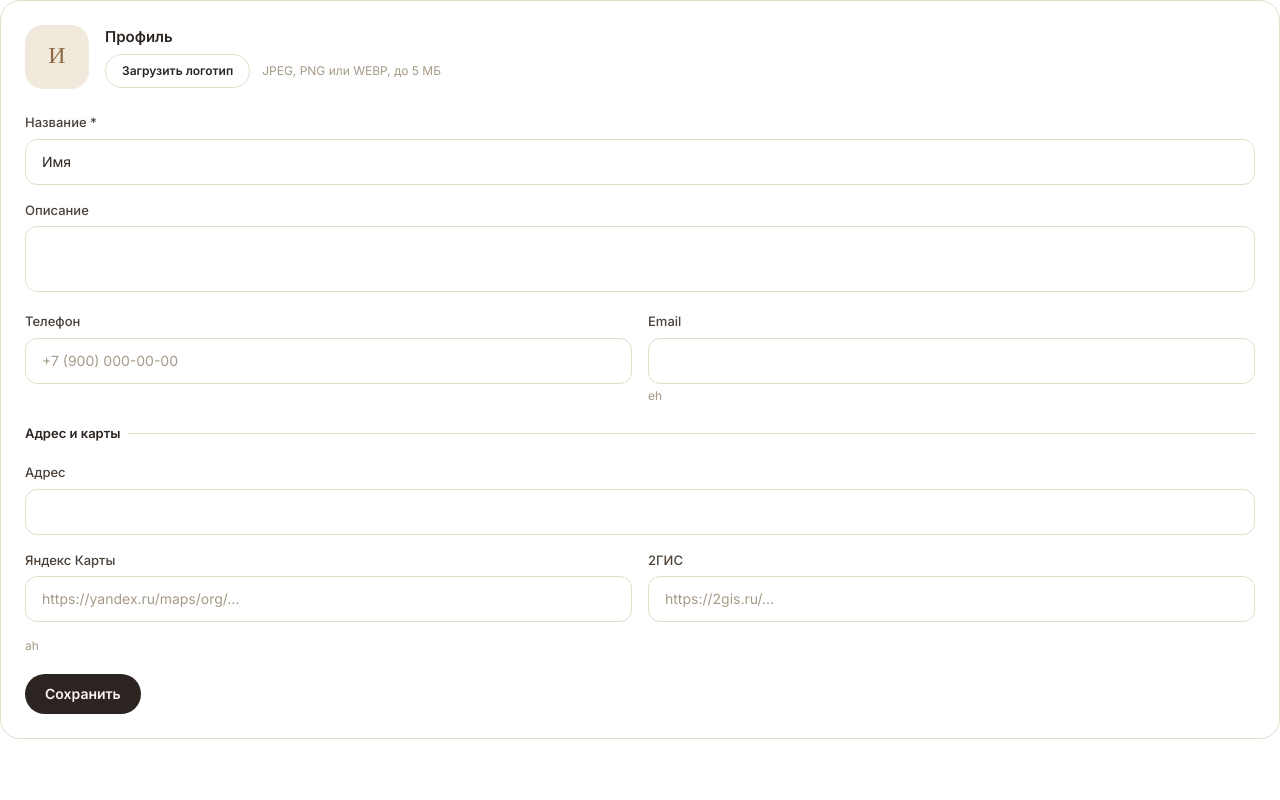
Test: CompanyProfileCard — error routing (ARCHITECTURE_CYCLE32.md §32.4.6) › 409 without timeZoneLock goes under the form
This screenshot has width=1280, height=800.
Click the button "Сохранить" at (83,694), box [25,674,141,714]
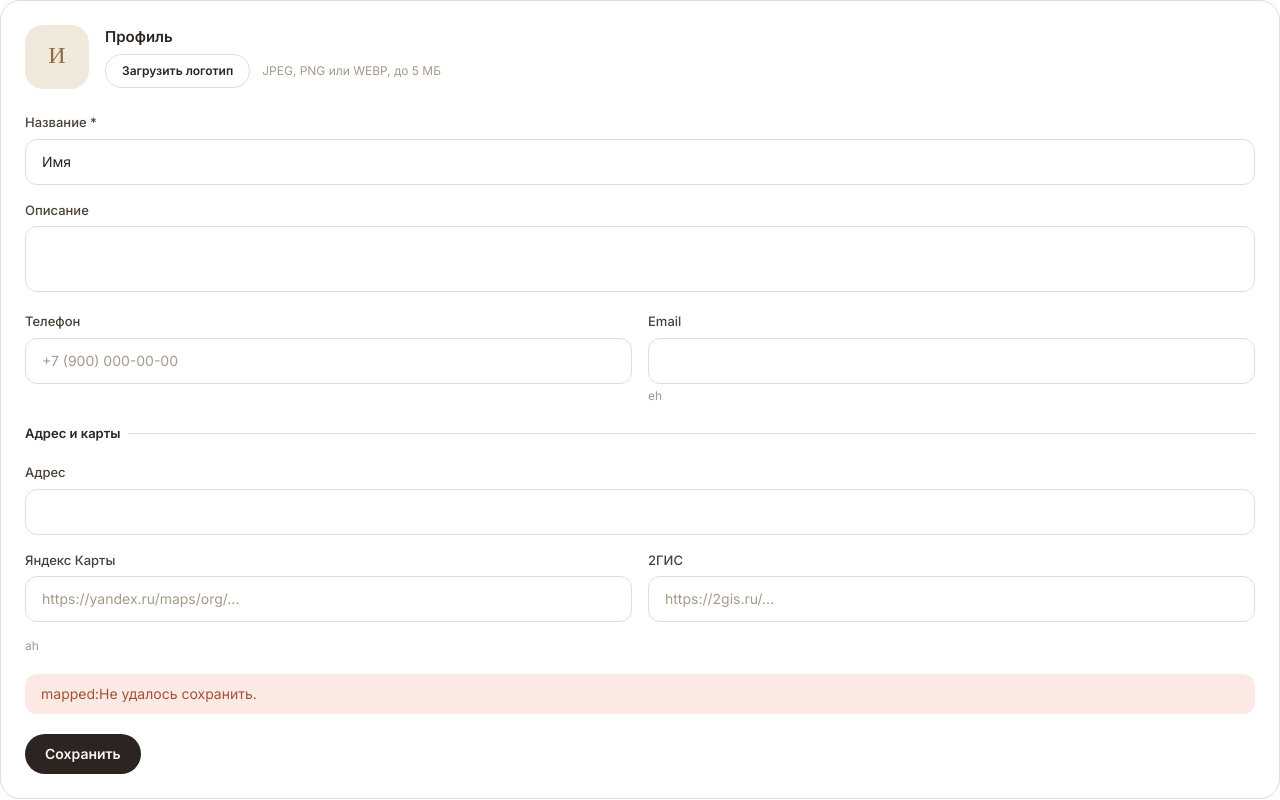
Result: the message reads "mapped:Не удалось сохранить." at [41,685,257,702]
